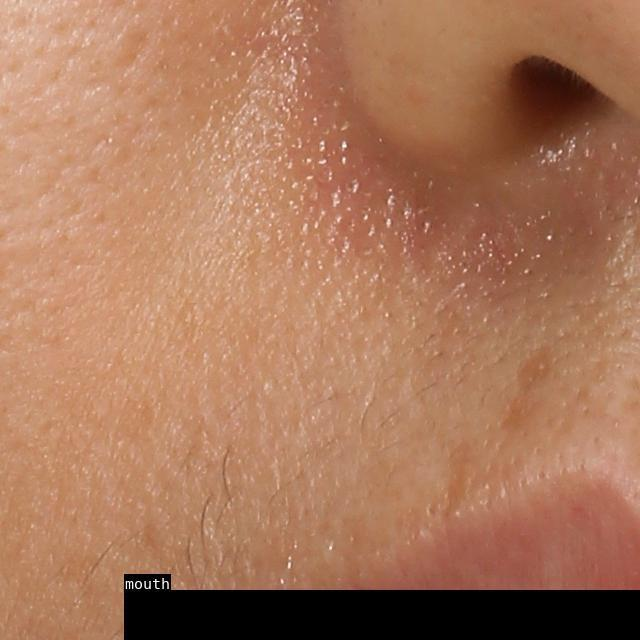atrophic_scar: (502, 349, 555, 428), (435, 441, 473, 524), (118, 27, 146, 72)
